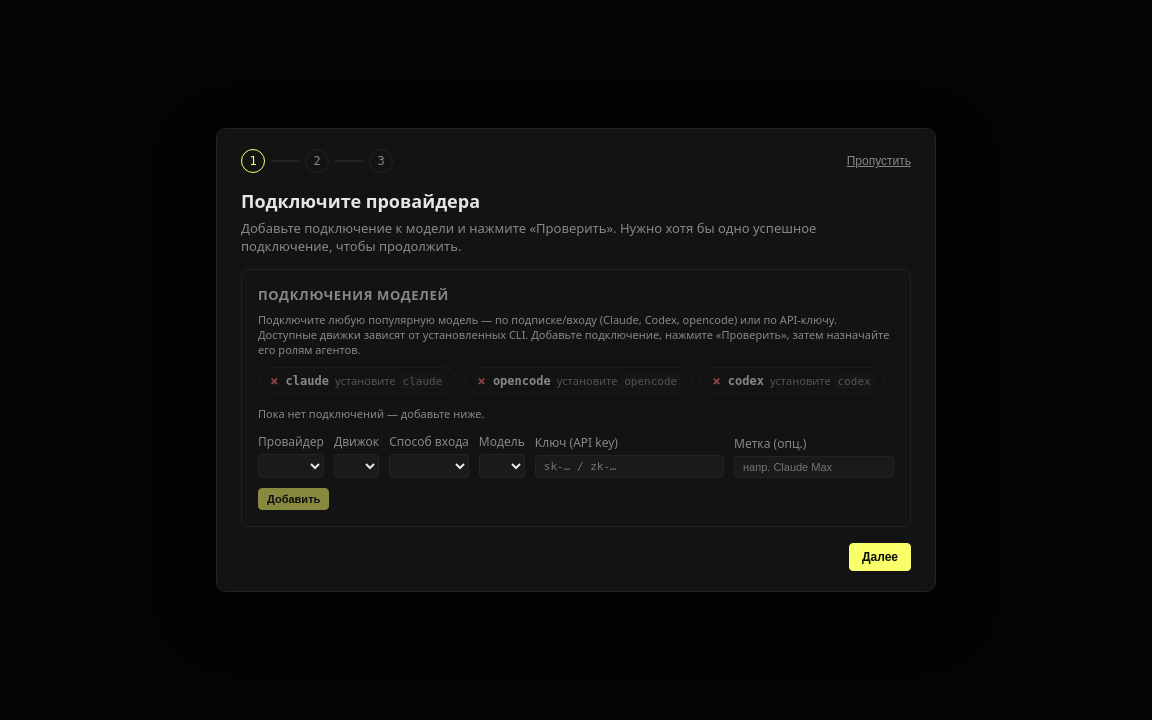
Scenario: UI-004: OnboardWizard CLI detection error feedback › shows error feedback when CLI detection fails
This screenshot has width=1152, height=720.
Note: Navigate to step 2 (triggers loadClis)
Step 1. Click the button with test id "wiz-next-1" → [880, 557], box [849, 543, 911, 571]
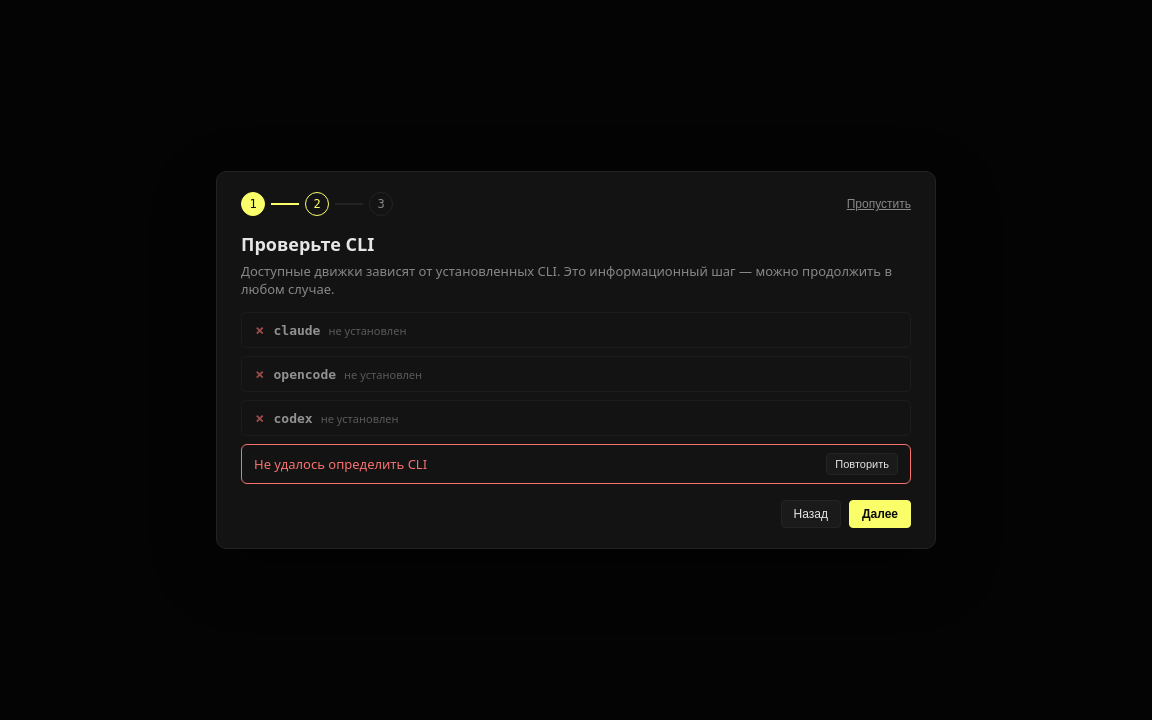
Check: the element with test id "wiz-cli-error" is shown, box [241, 444, 911, 484]
